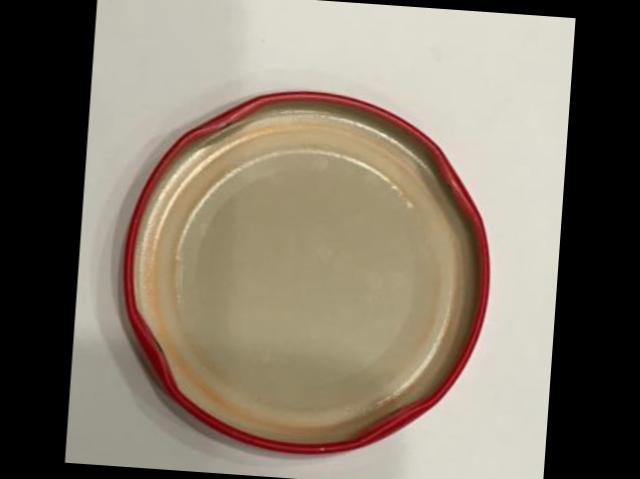metal: (126, 89, 490, 450)
